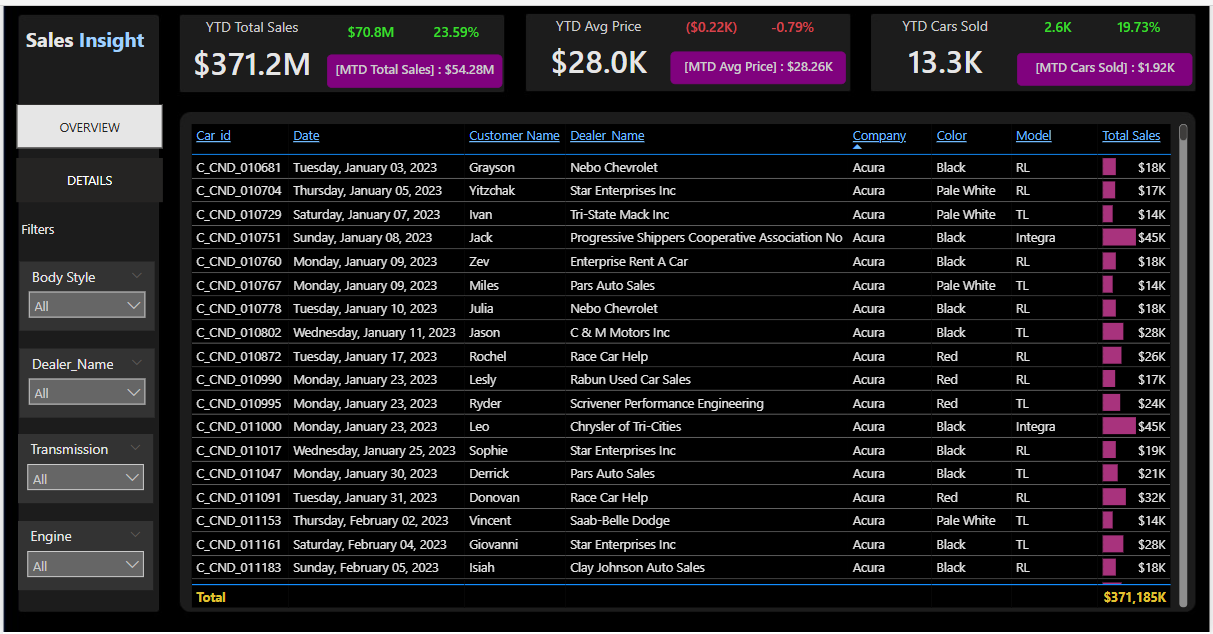

This screenshot's page, from the dashboard's own definition file:
{"tool":"powerbi","page":{"name":"DETAILS","canvas":[1280,720],"ordinal":1},"visuals":[{"type":"card","title":"YTD Total Sales","fields":{"Values":["car_data.YTD Total Sales"]},"box":[187.7,63.6,152.7,76.3],"z":0},{"type":"card","title":"YTD Total Sales","fields":{"Values":["car_data.Sales Difference"]},"box":[346.8,66.8,85.9,28.6],"z":1000},{"type":"card","title":"YTD Total Sales","fields":{"Values":["car_data.YoY Sales Growth"]},"box":[437.4,66.8,85.9,28.6],"z":2000},{"type":"card","fields":{"Values":["car_data.MTD KPI"]},"box":[343.6,103.4,186.1,35],"z":3000},{"type":"card","title":"YTD Avg Price","fields":{"Values":["car_data.YTD Avg Price"]},"box":[555.1,62,152.7,76.3],"z":4000},{"type":"card","title":"YTD Total Sales","fields":{"Values":["car_data.Avg Price Diff"]},"box":[707.8,62,85.9,28.6],"z":5000},{"type":"card","title":"YTD Total Sales","fields":{"Values":["car_data.YoY Avg Price Growth"]},"box":[793.7,62,85.9,28.6],"z":6000},{"type":"card","fields":{"Values":["car_data.MTD Avg Price KPI"]},"box":[707.8,100.2,186.1,35],"z":7000},{"type":"card","title":"YTD Cars Sold","fields":{"Values":["car_data.YTD Cars Sold"]},"box":[922.6,62,152.7,76.3],"z":8000},{"type":"card","title":"YTD Total Sales","fields":{"Values":["car_data.Cars Sold Diff"]},"box":[1075.3,62,85.9,28.6],"z":9000},{"type":"card","title":"YTD Total Sales","fields":{"Values":["car_data.YoY Cars Sold Growth"]},"box":[1161.1,62,85.9,28.6],"z":10000},{"type":"card","fields":{"Values":["car_data.MTD Cars Sold KPI"]},"box":[1075.3,101.8,186.1,35],"z":11000},{"type":"textbox","box":[432.6,0,509,42.9],"z":17000},{"type":"slicer","fields":{"Values":["car_data.Body Style"]},"box":[17.5,322.9,143.2,73.2],"z":18000},{"type":"slicer","fields":{"Values":["car_data.Dealer_Name"]},"box":[17.5,415.1,143.2,73.2],"z":19000},{"type":"slicer","fields":{"Values":["car_data.Transmission"]},"box":[15.9,505.8,143.2,73.2],"z":20000},{"type":"slicer","fields":{"Values":["car_data.Engine"]},"box":[15.9,598.1,143.2,73.2],"z":21000},{"type":"textbox","box":[19.1,66.8,146.3,39.8],"z":22000},{"type":"textbox","box":[14.3,273.6,60.4,33.4],"z":23000},{"type":"pageNavigator","box":[14.3,155.9,155.9,105],"z":23002},{"type":"tableEx","fields":{"Values":["car_data.Car_id","car_data.Date","car_data.Customer Name","car_data.Dealer_Name","car_data.Company","car_data.Color","car_data.Model","car_data.YTD Total Sales"]},"box":[194.1,171.8,1067.3,523.3],"z":23003},{"type":"actionButton","box":[12.7,8,31.8,28.6],"z":23004}]}

Visuals, with their boxes on the page's 1280x720 design canvas (x1, y1, x2, y2). These are canvas units, not pixel positions in the 1213x634 screenshot, which may show the page scaled, cropped or inside an application window:
"YTD Total Sales" card: detection(188, 64, 340, 140)
"YTD Total Sales" card: detection(347, 67, 433, 95)
"YTD Total Sales" card: detection(437, 67, 523, 95)
card - car_data.MTD KPI: detection(344, 103, 530, 138)
"YTD Avg Price" card: detection(555, 62, 708, 138)
"YTD Total Sales" card: detection(708, 62, 794, 91)
"YTD Total Sales" card: detection(794, 62, 880, 91)
card - car_data.MTD Avg Price KPI: detection(708, 100, 894, 135)
"YTD Cars Sold" card: detection(923, 62, 1075, 138)
"YTD Total Sales" card: detection(1075, 62, 1161, 91)
"YTD Total Sales" card: detection(1161, 62, 1247, 91)
card - car_data.MTD Cars Sold KPI: detection(1075, 102, 1261, 137)
textbox: detection(433, 0, 942, 43)
slicer - car_data.Body Style: detection(18, 323, 161, 396)
slicer - car_data.Dealer_Name: detection(18, 415, 161, 488)
slicer - car_data.Transmission: detection(16, 506, 159, 579)
slicer - car_data.Engine: detection(16, 598, 159, 671)
textbox: detection(19, 67, 165, 107)
textbox: detection(14, 274, 75, 307)
pageNavigator: detection(14, 156, 170, 261)
tableEx - car_data.Car_id x car_data.Date: detection(194, 172, 1261, 695)
actionButton: detection(13, 8, 44, 37)
